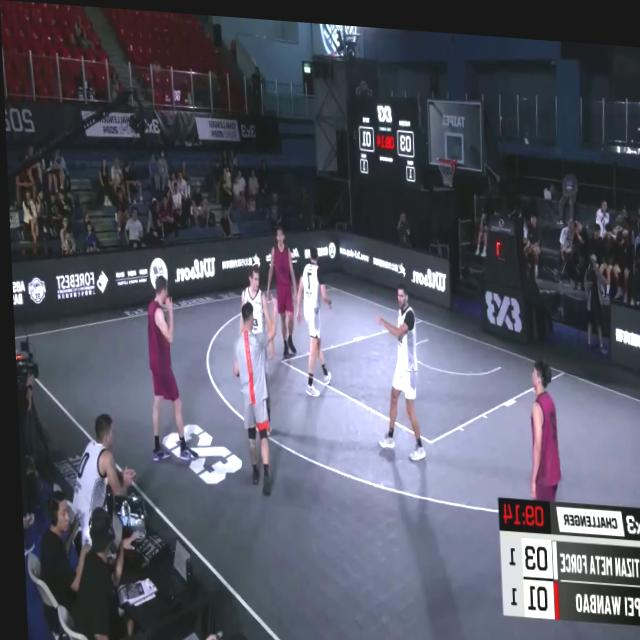hoop: (436, 149, 457, 186)
player: (139, 267, 194, 465), (368, 279, 422, 455), (296, 239, 334, 396), (264, 222, 298, 363)
